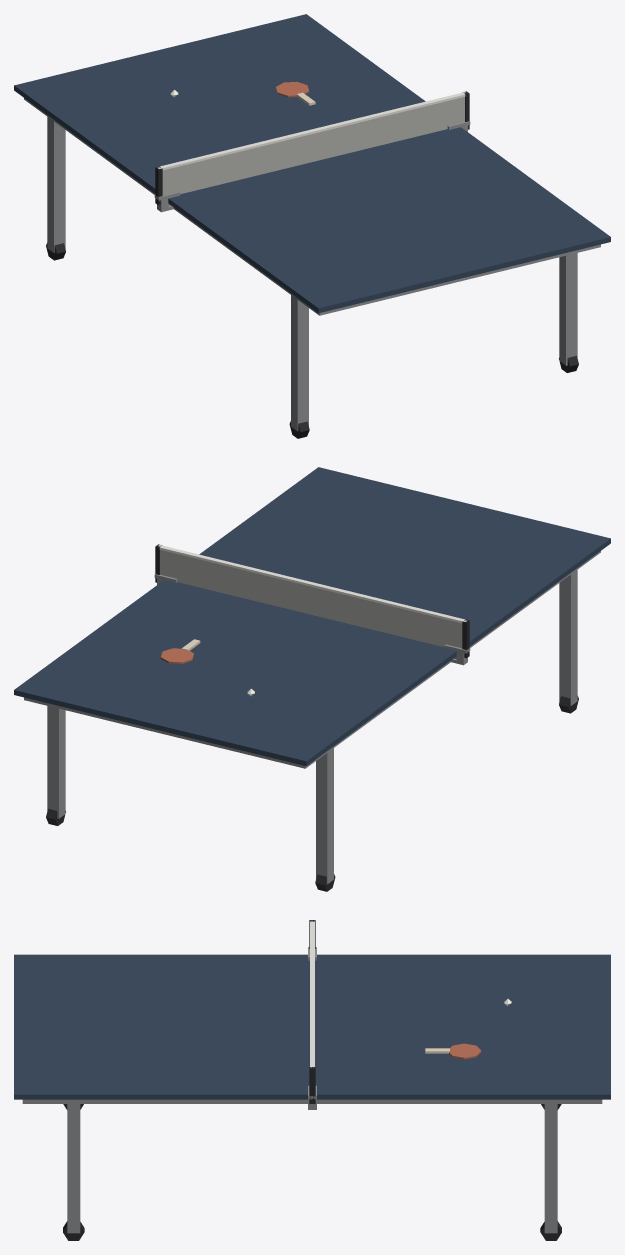
Rendered from FN_Table_Tennis.glb.
3 renders of one model, top to bottom at view 1: azimuth 30°, elevation 25°; view 2: azimuth 150°, elevation 25°; view 3: azimuth 270°, elevation 25°, orthographic. The views are drawn at different scales.
Parts seen in each view (by area): view 1: FN_Table_Tennis; view 2: FN_Table_Tennis; view 3: FN_Table_Tennis.
Part boxes in pixels (x1=…): FN_Table_Tennis: x1=14, y1=14, x2=610, y2=438; FN_Table_Tennis: x1=14, y1=467, x2=610, y2=891; FN_Table_Tennis: x1=14, y1=920, x2=610, y2=1240.
Bounding box in the file's own units: 1.62 × 0.913 × 2.75.
Materials: 1 (1 with a texture image).
